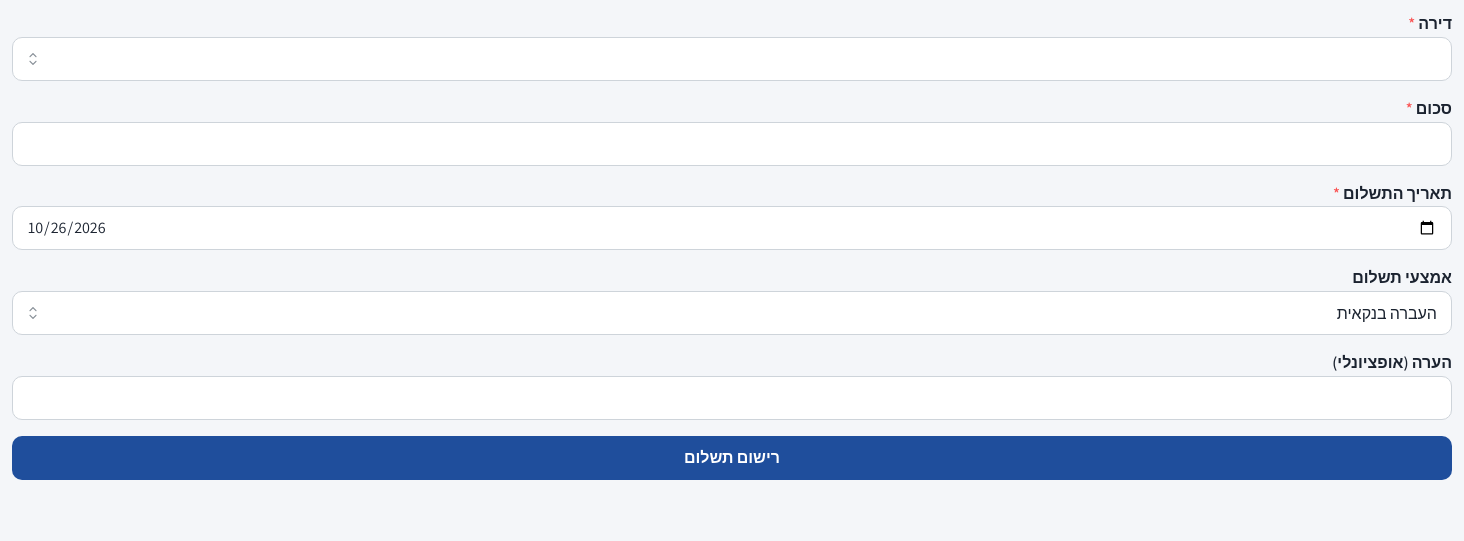
Test: forms › a payment without an apartment or amount says what to fill in, and saves nothing
Click the button "רישום תשלום". click: (732, 458)
box: [12, 436, 1452, 480]
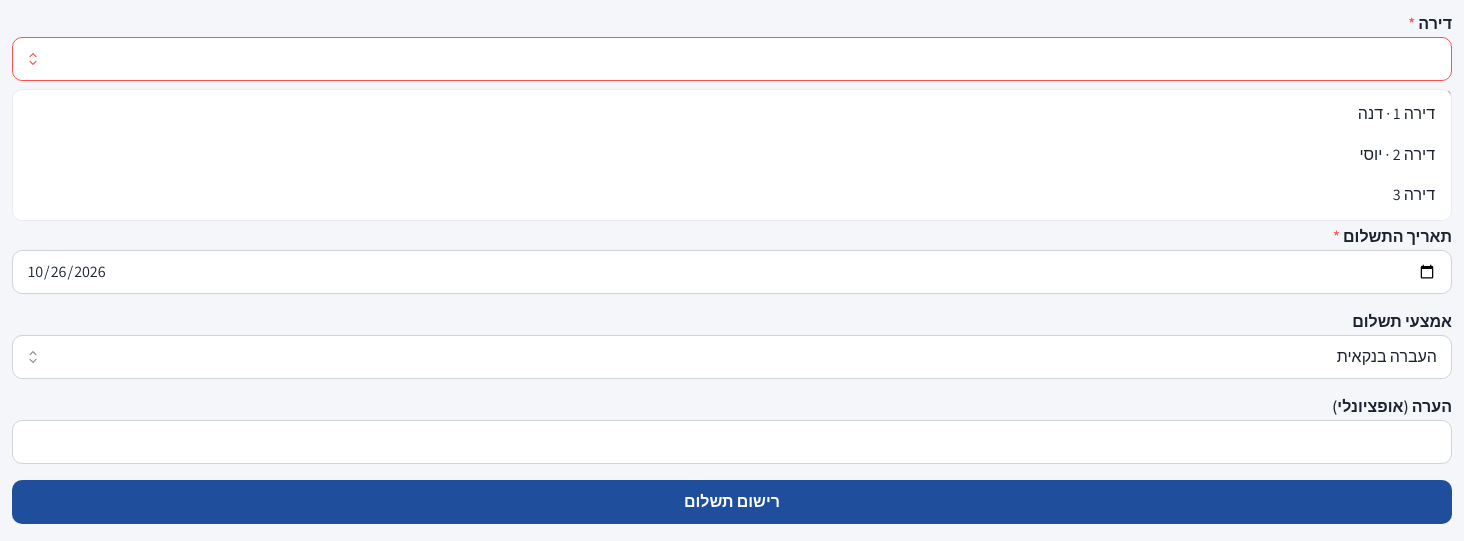
Expected: the text "בחרו דירה" is shown, [1393, 85, 1452, 103]
Now the text "הסכום חייב להיות גדול מ-0" is shown, box [1299, 191, 1452, 209]
